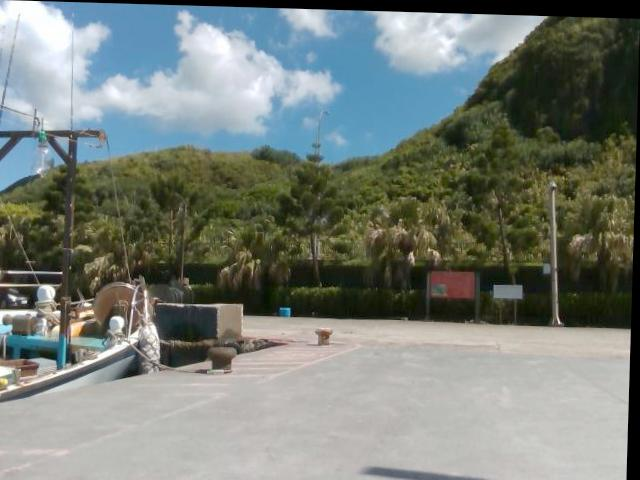pollute: (280, 305, 293, 315)
